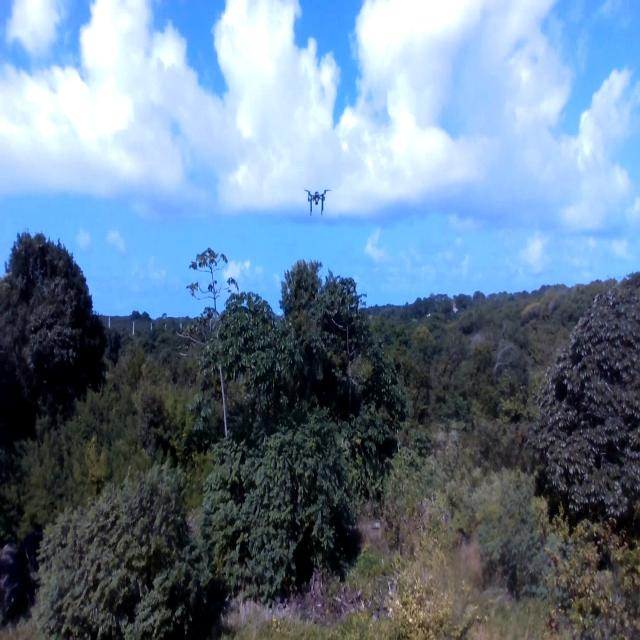-uav-: (301, 179, 333, 224)
